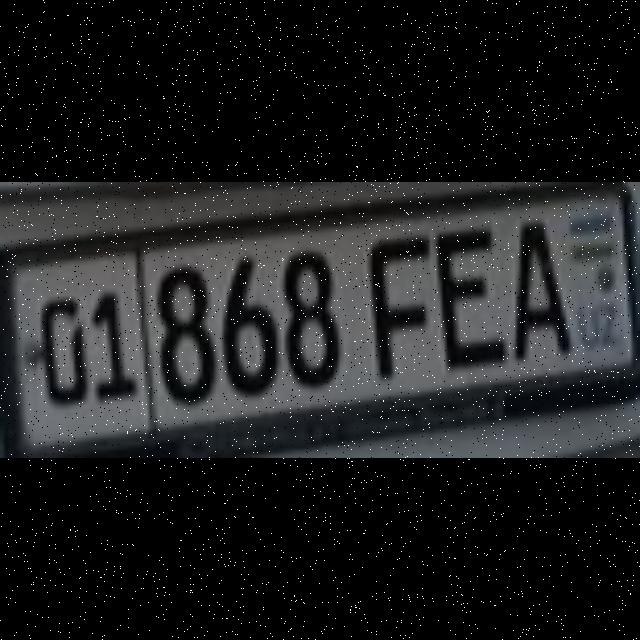0: (38, 294, 82, 401)
1: (86, 286, 132, 396)
6: (219, 252, 273, 388)
8: (153, 261, 211, 401), (281, 248, 335, 384)
A: (508, 219, 570, 359)
E: (430, 223, 504, 363)
F: (363, 232, 429, 376)
